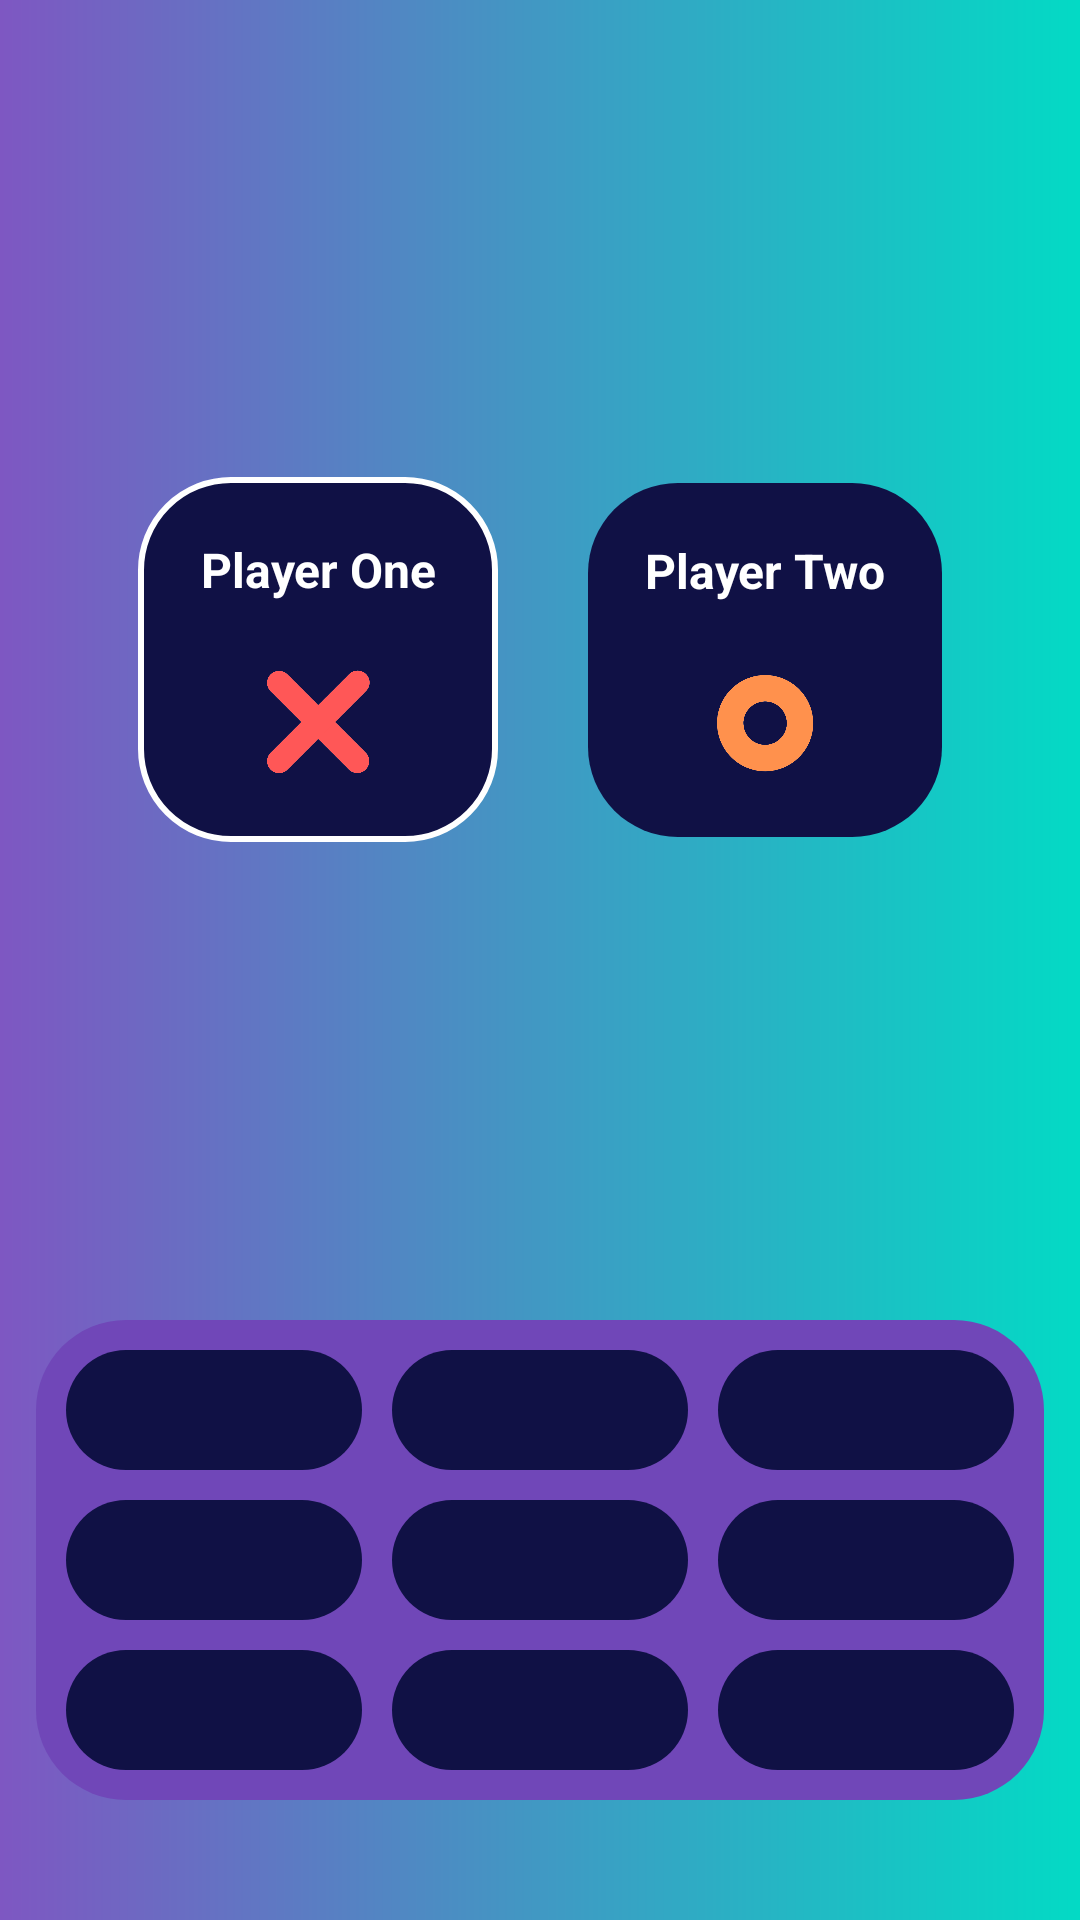

Named icons in this screenshot (1080px×1920px) and their bounding boxes, bbox=(x1, y1, x2, y2):
Circle: bbox=(717, 675, 813, 771)
cross: bbox=(267, 670, 370, 773)
